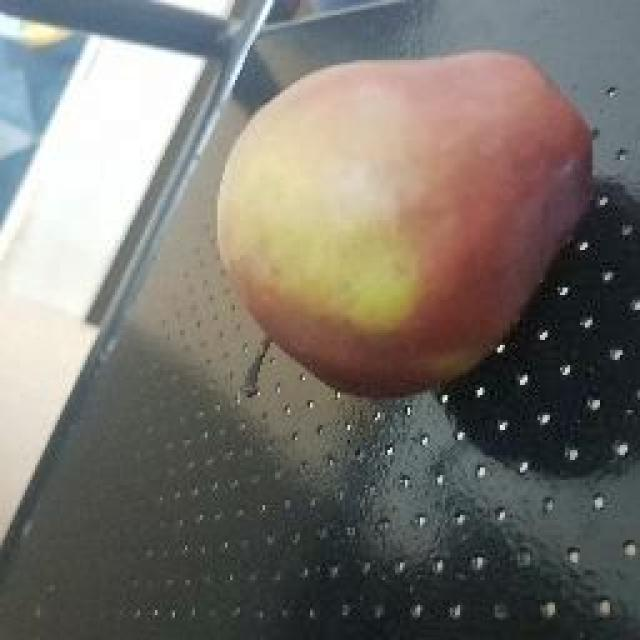Good_Apple: (215, 50, 595, 402)
